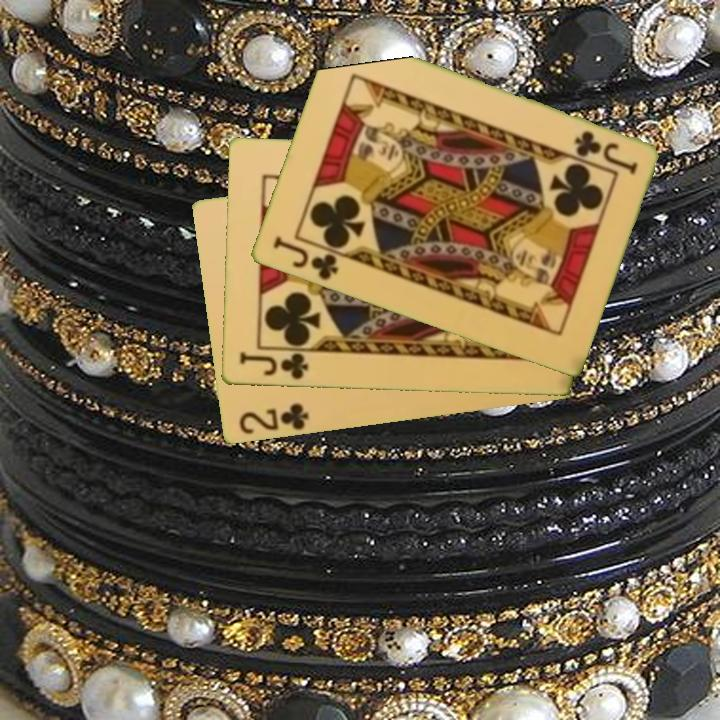2c: (235, 400, 312, 438)
Jc: (269, 233, 348, 284), (570, 127, 640, 177), (235, 349, 311, 383)
